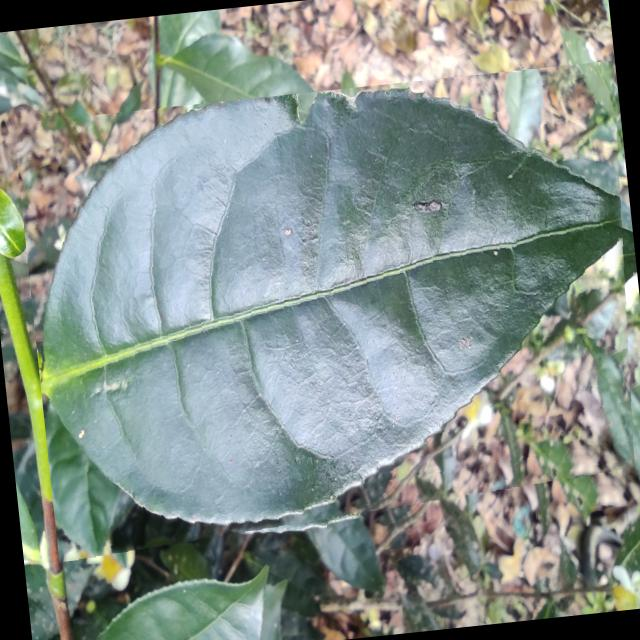Category D(7+ days, Not for Tea): (12, 59, 640, 563)
